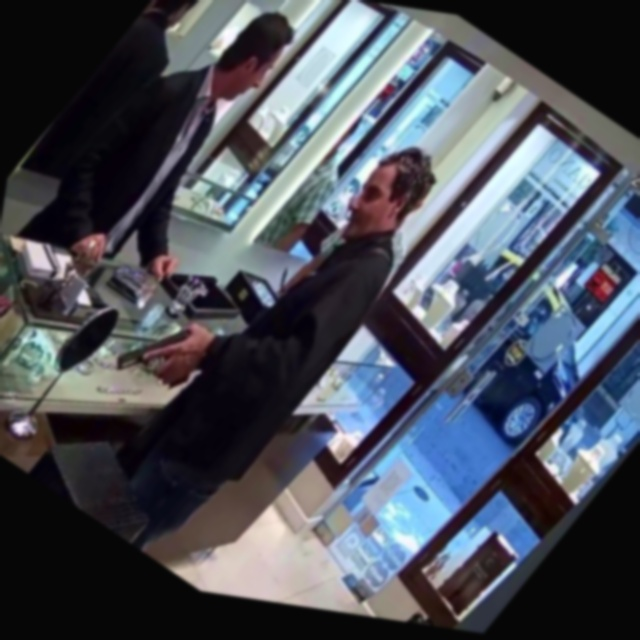gun: (91, 270, 244, 428)
